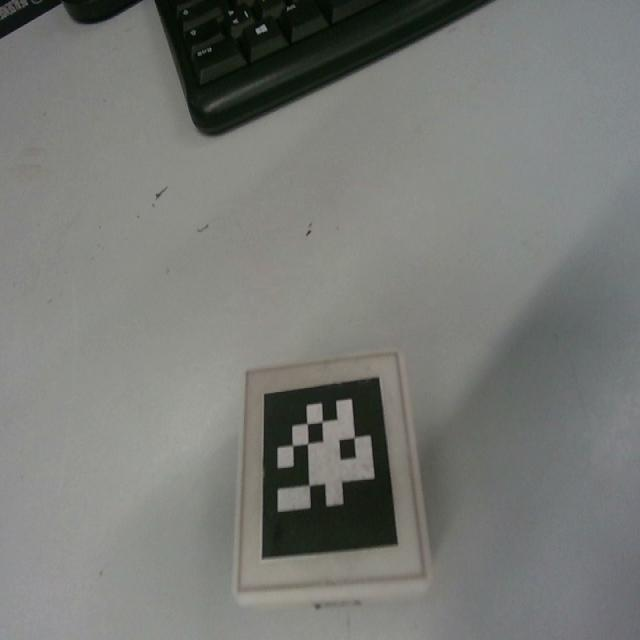Cube: (232, 348, 433, 607)
